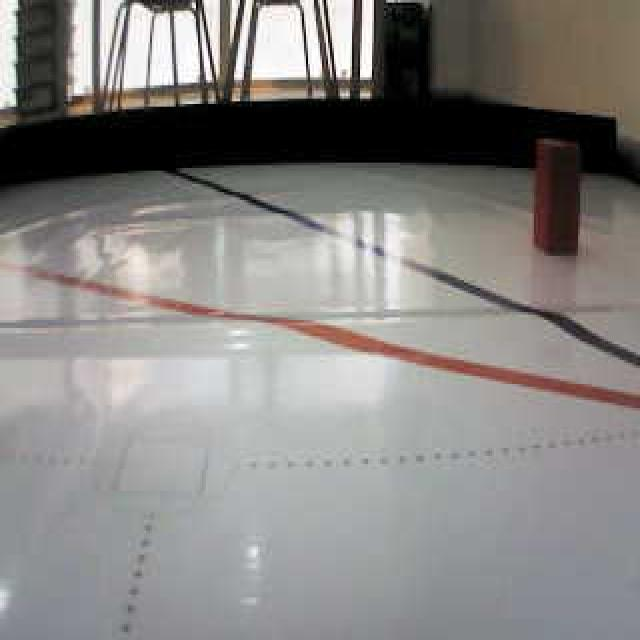azul: (239, 164, 484, 276)
naranja: (323, 314, 520, 420)
rojo: (532, 128, 592, 263)
